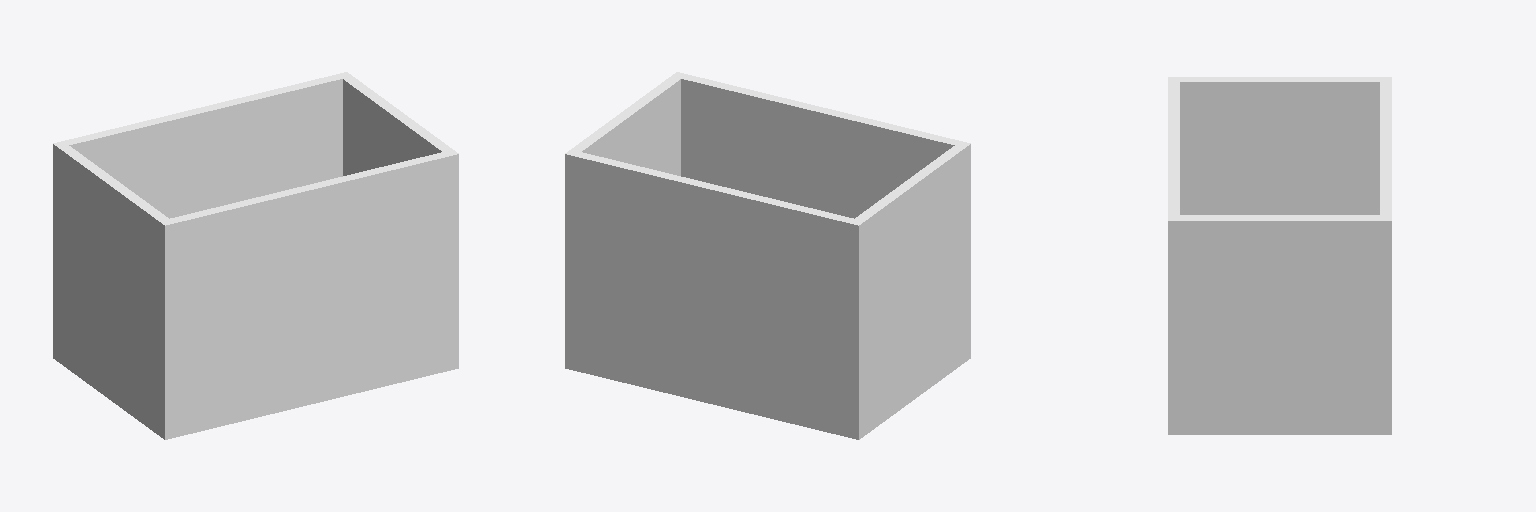
File: BoxOpen.obj
3 views of the same model, side by side, from view 1: azimuth 30°, elevation 25°; view 2: azimuth 150°, elevation 25°; view 3: azimuth 270°, elevation 25° (orthographic).
Visible parts, largest first — view 1: object 1; view 2: object 1; view 3: object 1.
Boxes of the visible parts, <box> form: object 1: <box>53,72,458,439</box>; object 1: <box>565,72,970,439</box>; object 1: <box>1168,77,1391,434</box>.
Size of the model in its own units: 5.6 by 3.9 by 3.7.